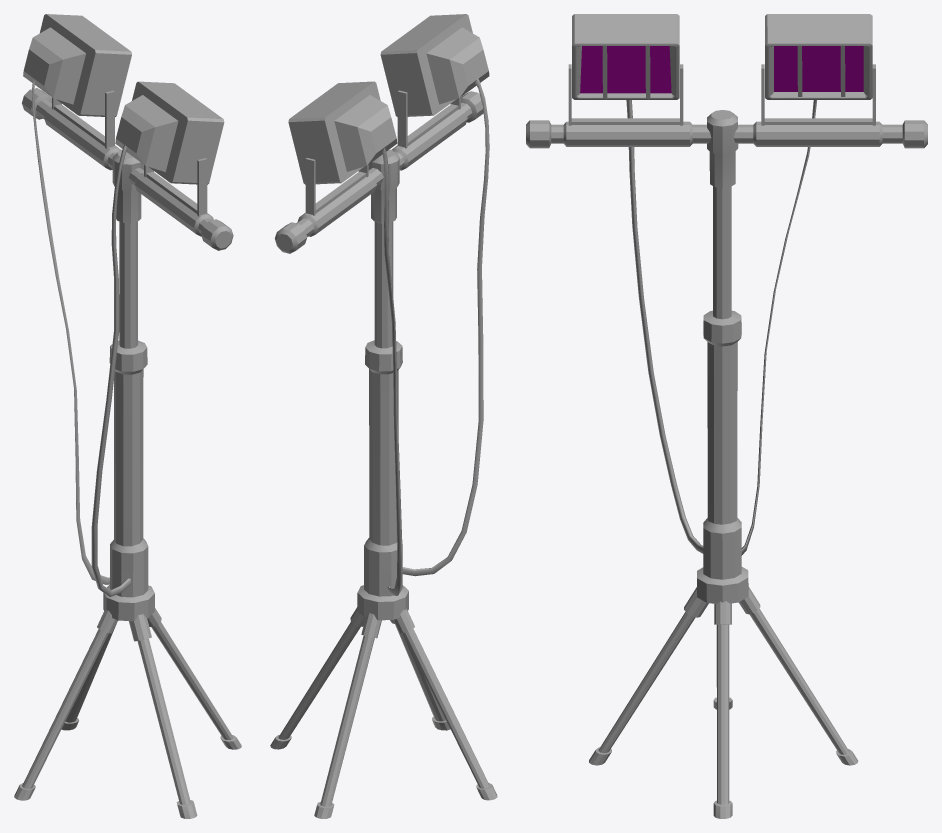
Rendered from TallLights.fbx.
The picture shows the model from 3 angles, left to right: view 1: azimuth 30°, elevation 25°; view 2: azimuth 150°, elevation 25°; view 3: azimuth 270°, elevation 25°; orthographic projection. The views are drawn at different scales.
Parts seen in each view (by area): view 1: TallLights_LOD0; view 2: TallLights_LOD0; view 3: TallLights_LOD0.
Boxes of the visible parts, x1,y1,x2,y2 form: TallLights_LOD0: [14, 14, 241, 818]; TallLights_LOD0: [270, 14, 497, 818]; TallLights_LOD0: [526, 14, 927, 818].
Size of what is drawn, in the model's own units: 102 by 307 by 151.
